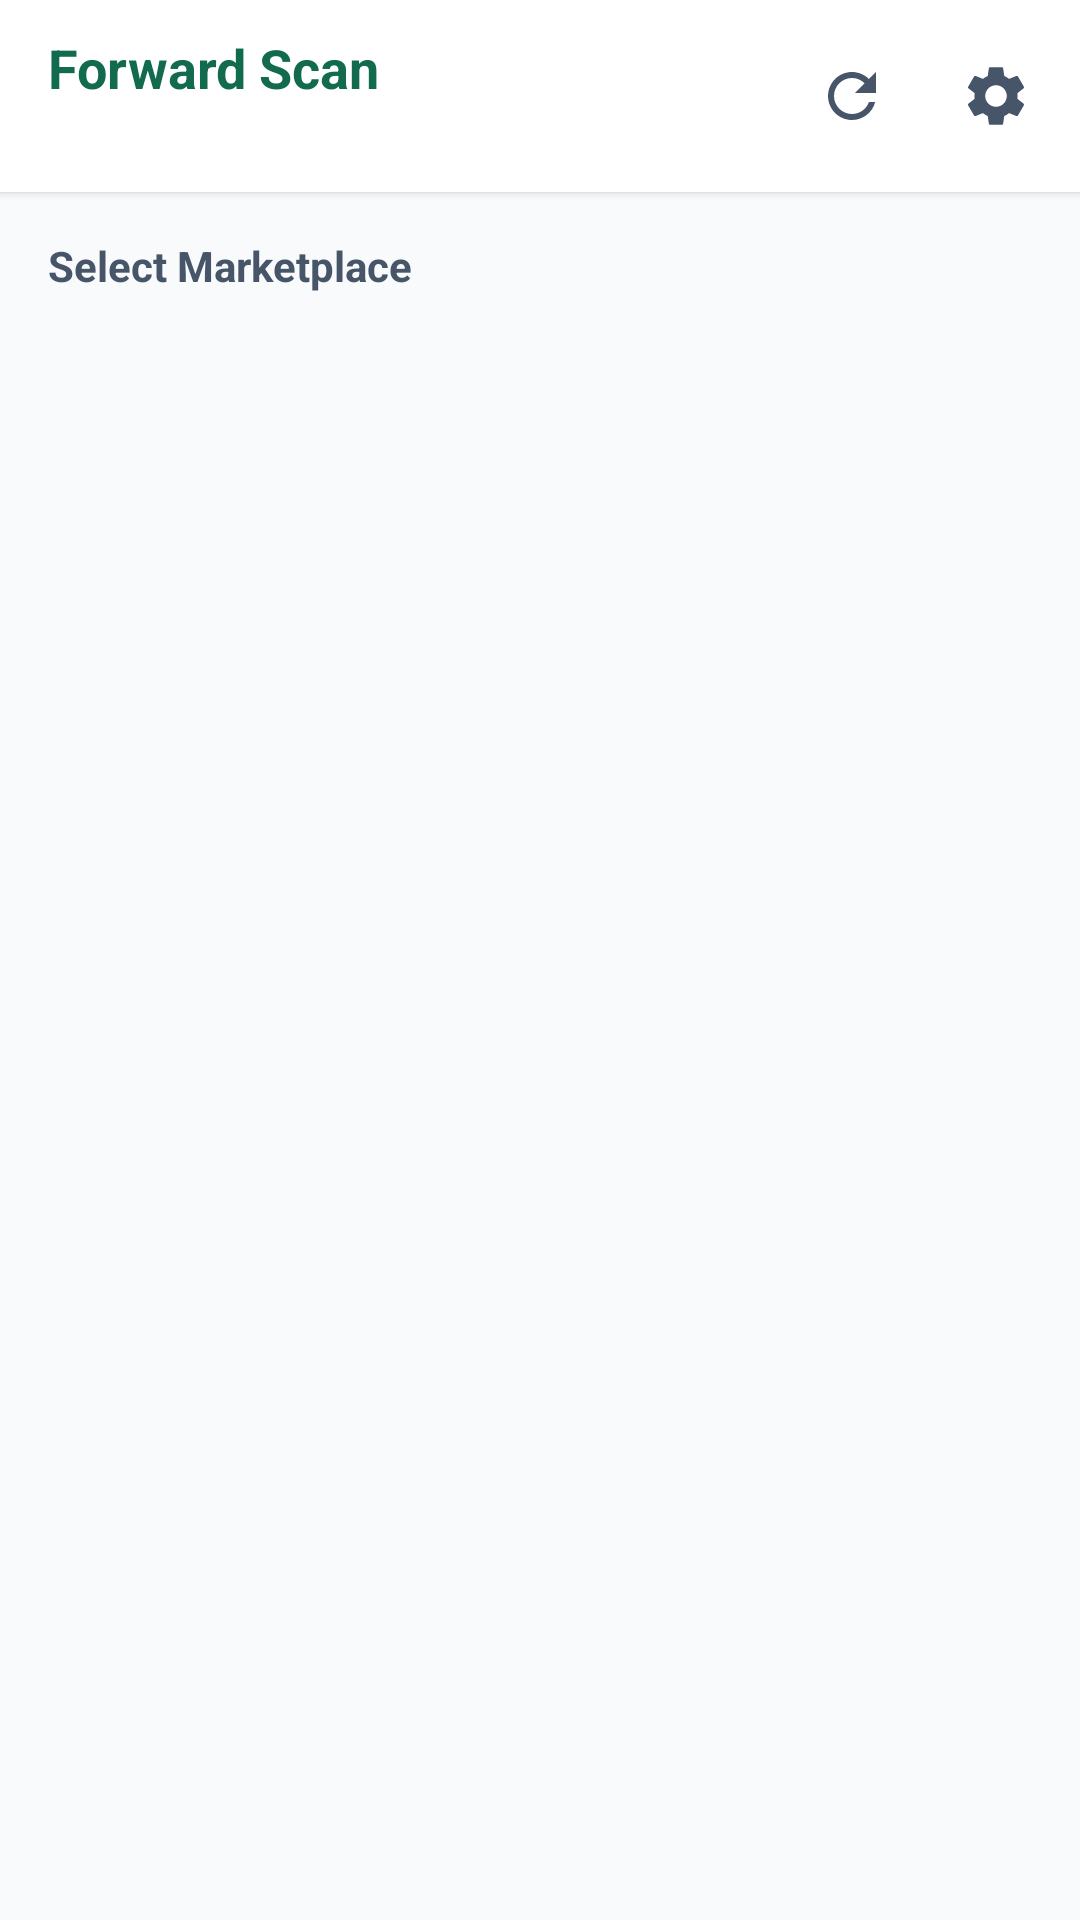

Icons on this 1080 × 1920 Android screen, each with its box as (x1, y1, x2, y2):
Refresh: (828, 72, 876, 120)
Settings: (968, 67, 1024, 125)
